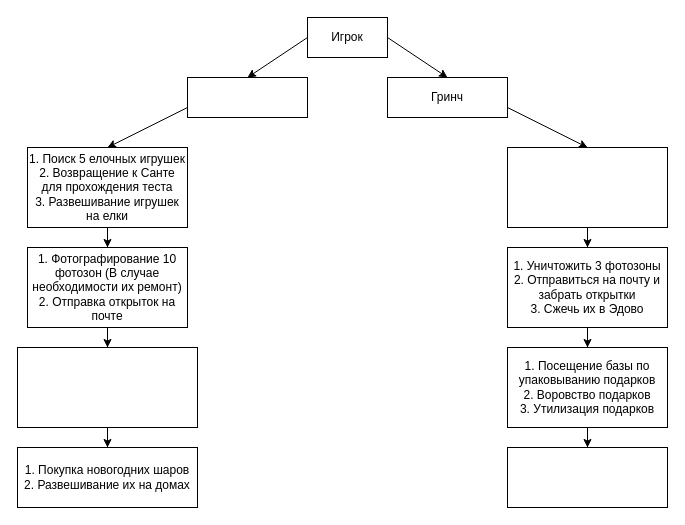
Some shapes in this 685 by 525 pixel diagram are drawn without their labels. Here are the shapes that lost their labels. From the top down, the centre of each, then its label:
[247,97]: Сторона Санта-Клауса/Деда Мороза
[587,187]: 1. Украсть 5 елочных игрушек 2. Спрятать поочередно все елочные игрушки
[107,387]: 1. Посещение базы по упаковыванию подарков 2. Упаковывание 30 подарков
[587,477]: 1. Покупка ножниц 2. Уничтожение новогодних шаров на домах
